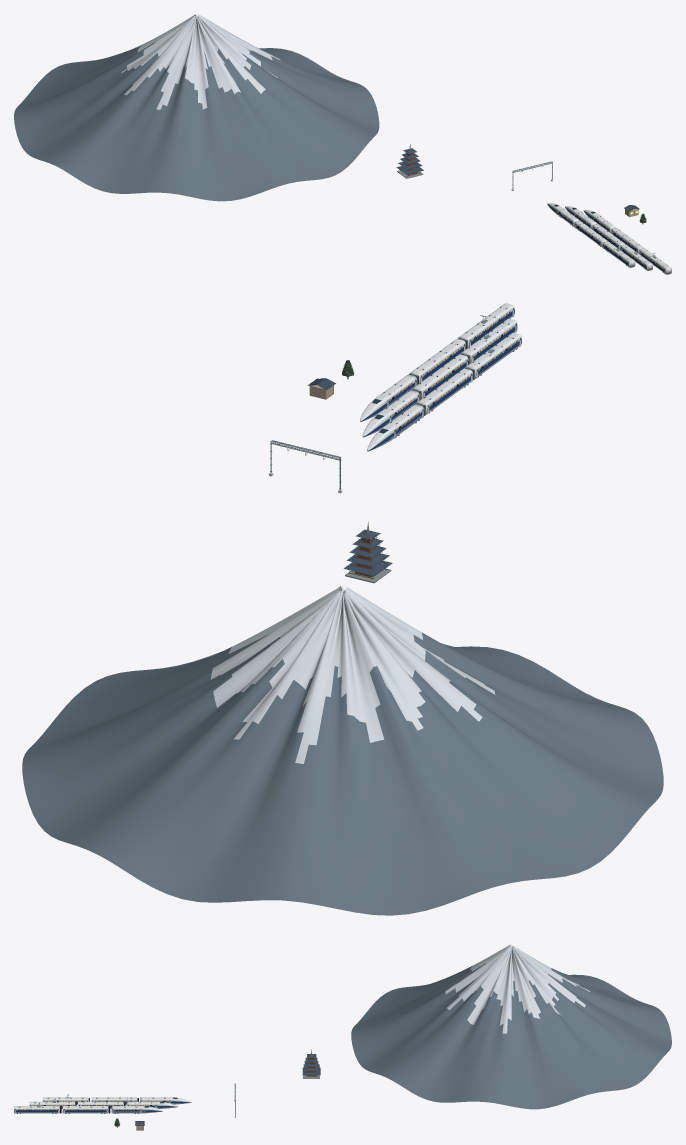
The model's file is shinkansen.glb.
The picture shows the model from 3 angles, top to bottom: view 1: azimuth 30°, elevation 25°; view 2: azimuth 150°, elevation 25°; view 3: azimuth 270°, elevation 25°; orthographic projection. The views are drawn at different scales.
Parts seen in each view (by area): view 1: Snow-capped volcanic landmark; view 2: Snow-capped volcanic landmark; view 3: Snow-capped volcanic landmark, Aerodynamic lead shell.002.
Part boxes in pixels (x1=…): Snow-capped volcanic landmark: x1=14, y1=14, x2=379, y2=201; Snow-capped volcanic landmark: x1=22, y1=586, x2=663, y2=915; Snow-capped volcanic landmark: x1=351, y1=944, x2=671, y2=1109; Aerodynamic lead shell.002: x1=111, y1=1106, x2=162, y2=1113.
Size of the model in its own units: 206 by 56.43 by 345.
20 materials, 2 textured.
